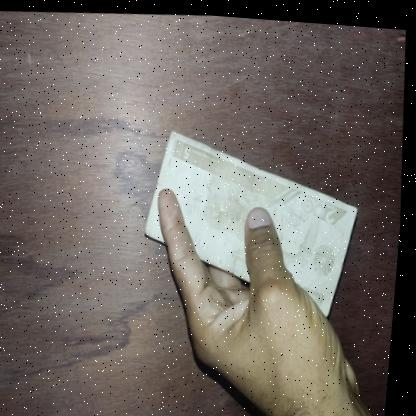five-back-vef: (138, 116, 371, 323)
